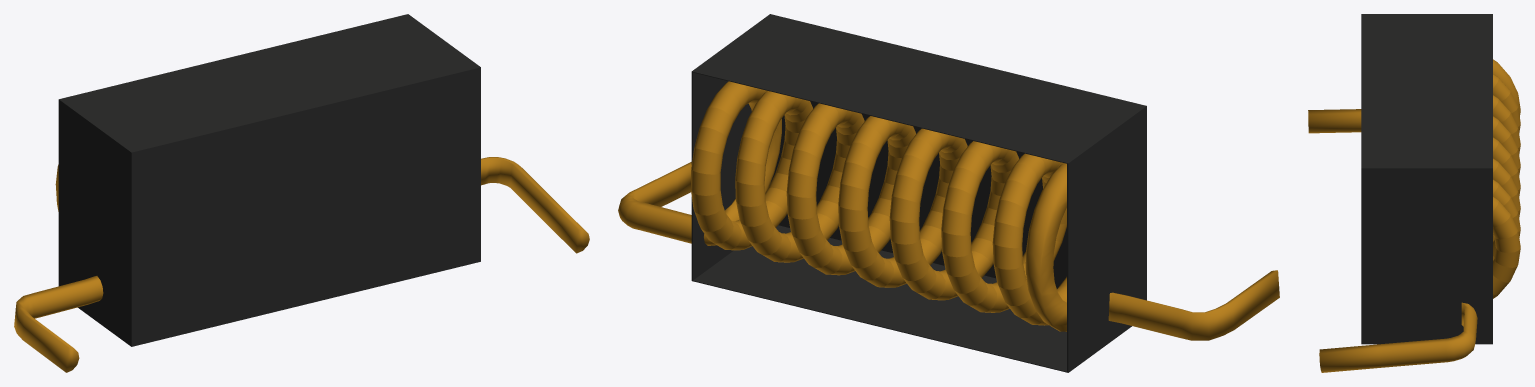
The model's file is Inductor-Upgrade1.fbx.
The picture shows the model from 3 angles, left to right: view 1: azimuth 30°, elevation 25°; view 2: azimuth 150°, elevation 25°; view 3: azimuth 270°, elevation 25°; orthographic projection. The views are drawn at different scales.
Visible parts, largest first — view 1: Capacitor1; view 2: Capacitor1; view 3: Capacitor1.
Boxes of the visible parts, x1,y1,x2,y2 form: Capacitor1: (14,14,589,372); Capacitor1: (618,14,1279,372); Capacitor1: (1308,14,1520,372).
Bounding box in the file's own units: 199 × 69.18 × 75.82.
